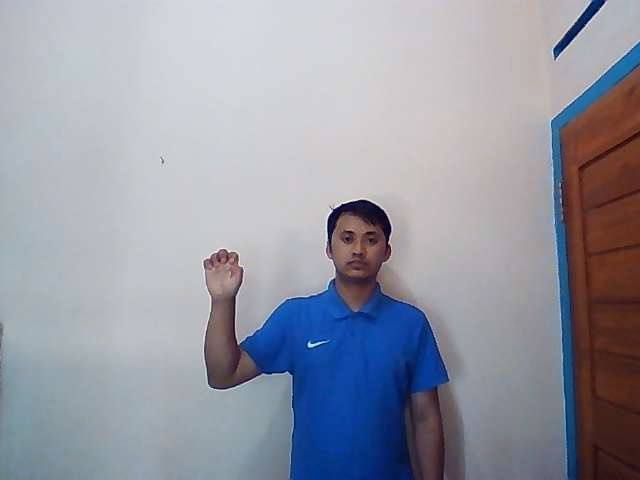E: (202, 248, 245, 299)
